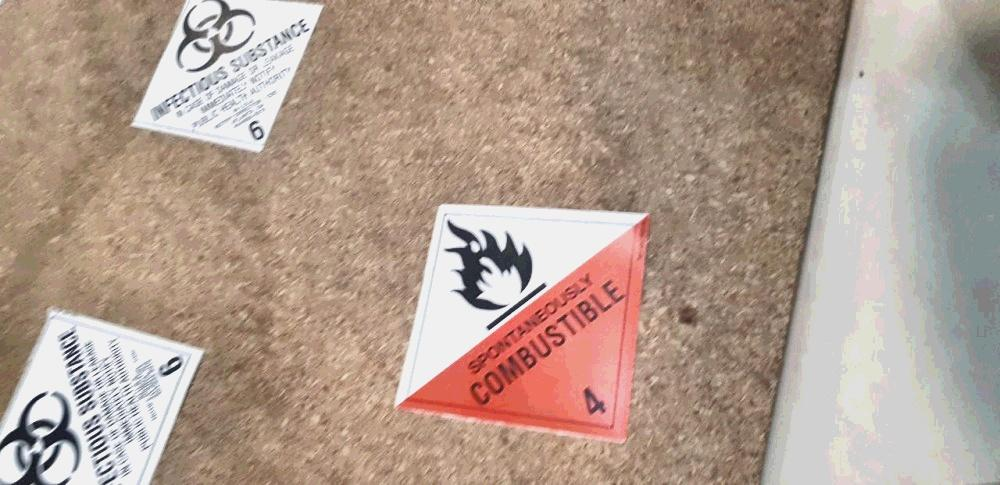infectious-substance: (1, 300, 217, 484), (125, 1, 331, 151)
spontaneously-combustible: (398, 192, 639, 449)
